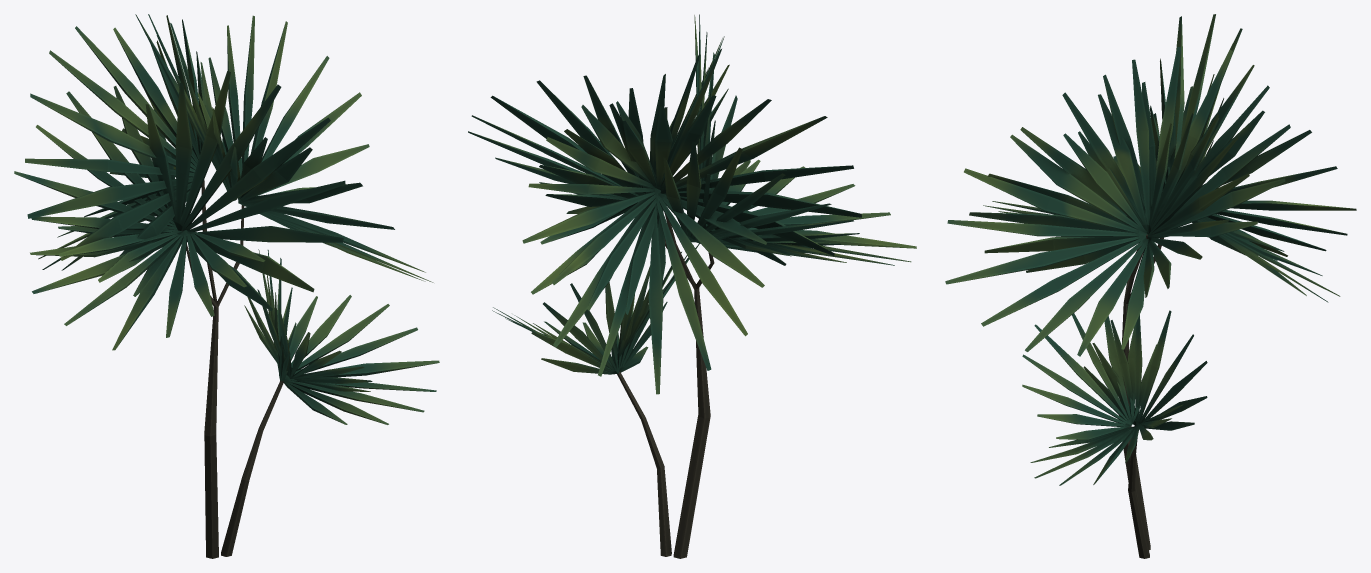
File: LadyPalmTree(1).gltf
The picture shows the model from 3 angles, left to right: view 1: azimuth 30°, elevation 25°; view 2: azimuth 150°, elevation 25°; view 3: azimuth 270°, elevation 25°; orthographic projection. The views are drawn at different scales.
Visible parts, largest first — view 1: node-0; view 2: node-0; view 3: node-0.
Boxes of the visible parts, box(x1,y1,x2,y2) form: node-0: box(14, 14, 439, 558); node-0: box(468, 14, 916, 558); node-0: box(945, 14, 1356, 558).
Bounding box in the file's own units: 13.02 × 16.28 × 12.49.
Materials: 1 (1 with a texture image).
